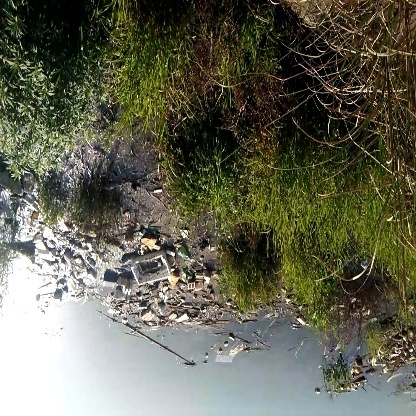plastic-garbage: (129, 250, 178, 288)
